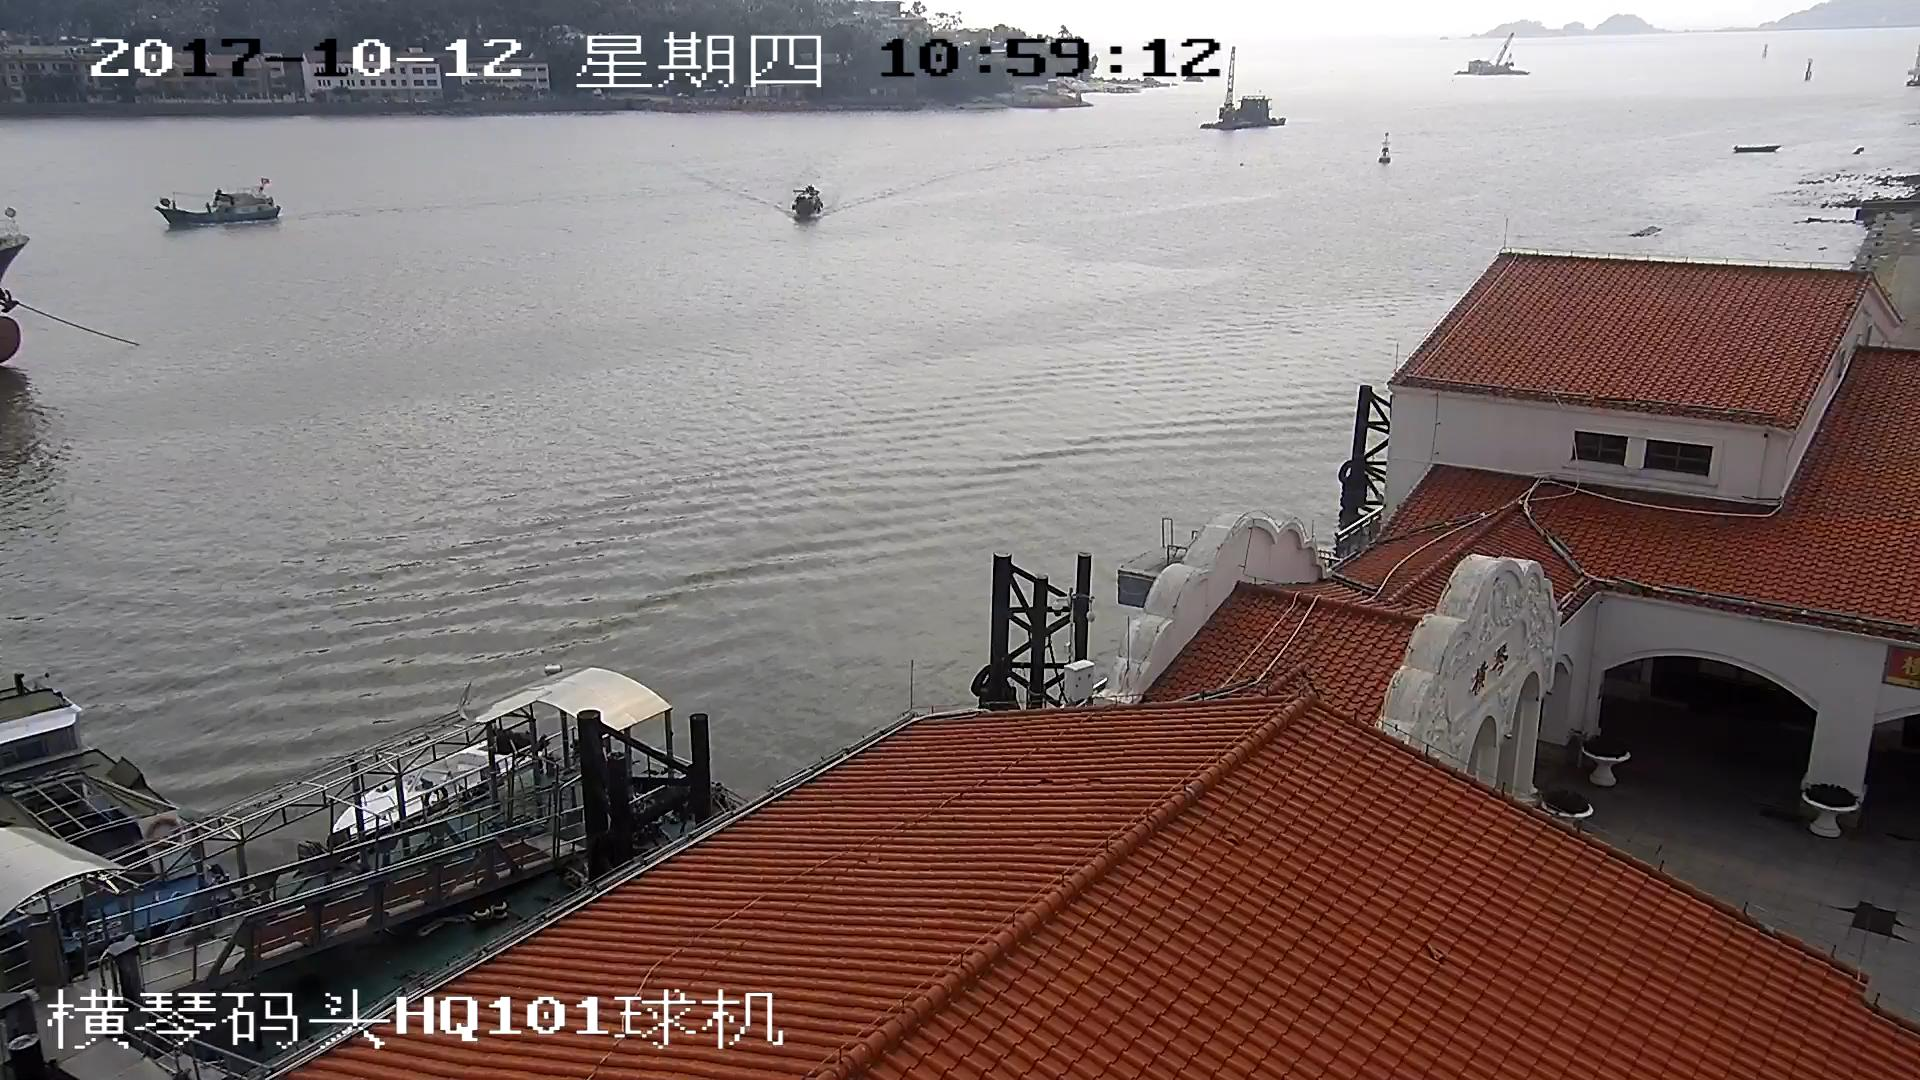fishing boat: (155, 183, 281, 226)
